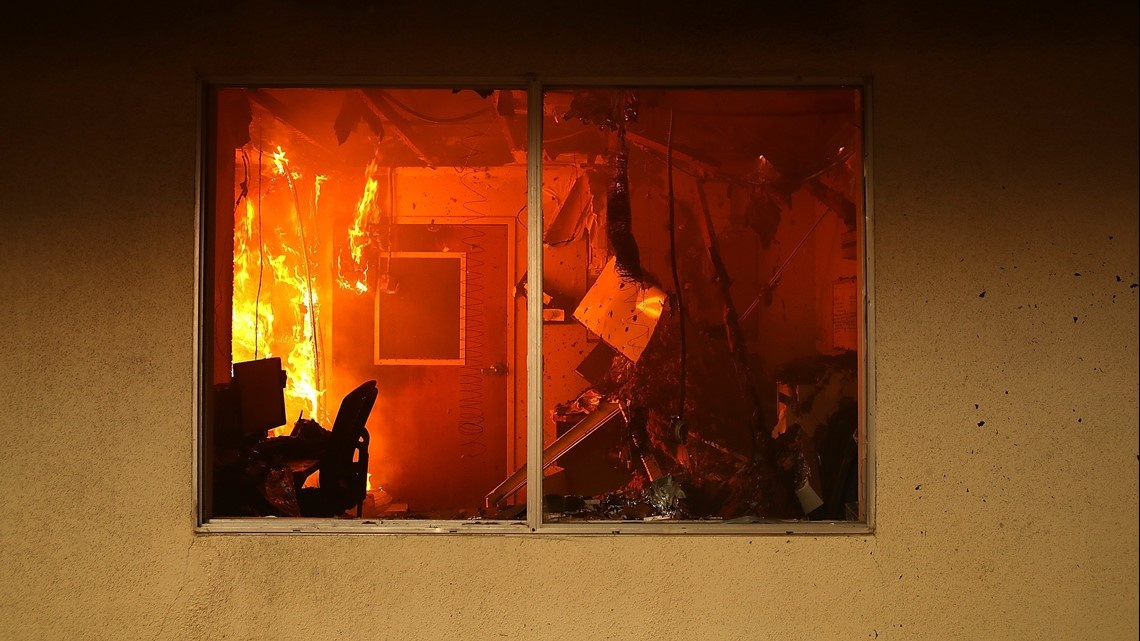Fire: (234, 220, 327, 427), (348, 163, 378, 299)
